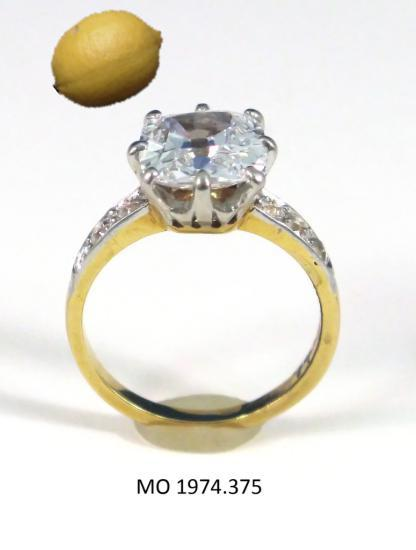Lemon: (48, 0, 167, 119)
